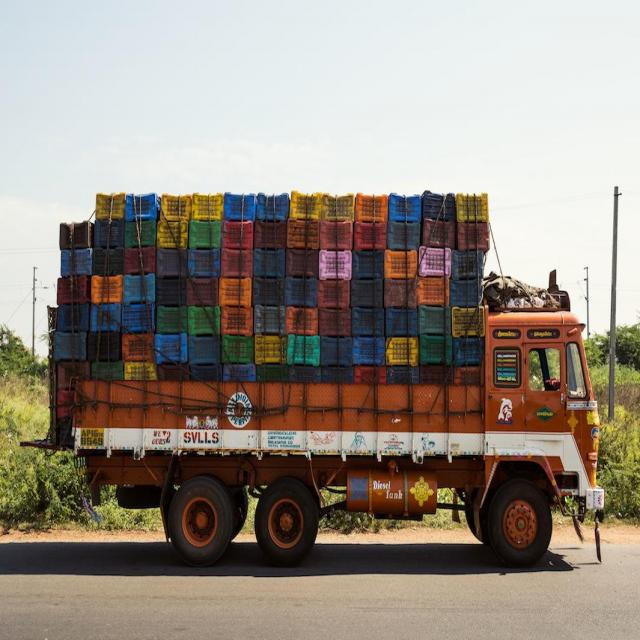Truck: (45, 192, 603, 568)
